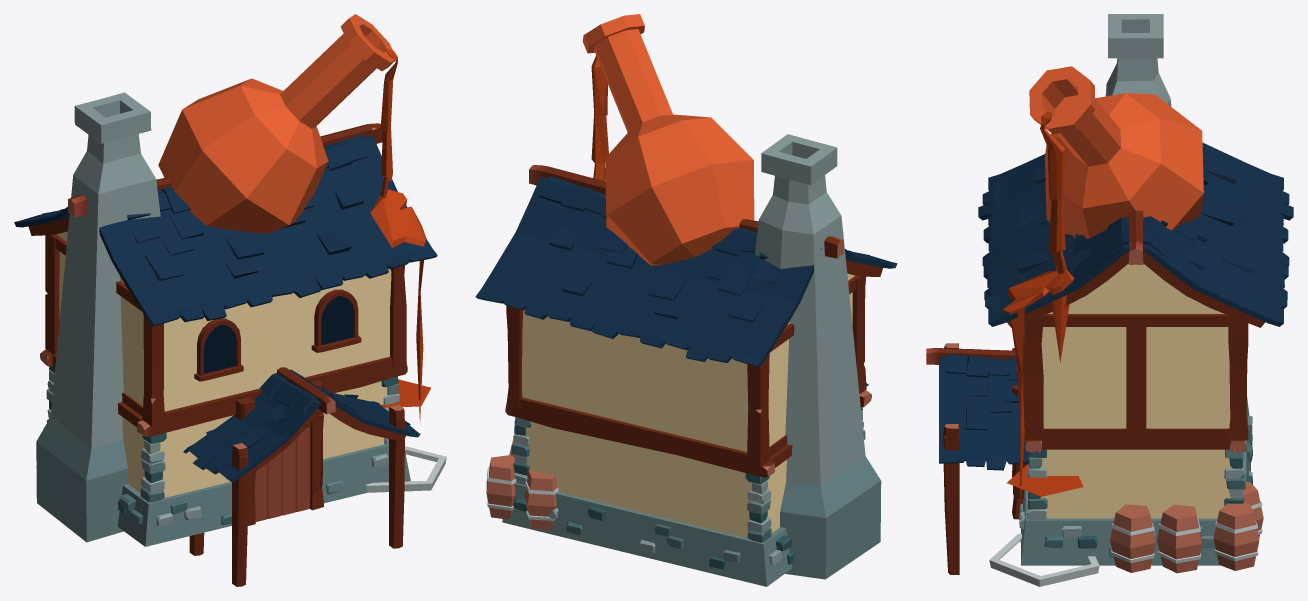
The model's file is SM_PotionStore_LODS_Group.fbx.
The picture shows the model from 3 angles, left to right: view 1: azimuth 30°, elevation 25°; view 2: azimuth 150°, elevation 25°; view 3: azimuth 270°, elevation 25°; orthographic projection. The views are drawn at different scales.
Parts seen in each view (by area): view 1: SM_PotionStore_LOD0; view 2: SM_PotionStore_LOD0; view 3: SM_PotionStore_LOD0.
Boxes of the visible parts, left/top/right/bottom form: SM_PotionStore_LOD0: left=14, top=14, right=446, bottom=586; SM_PotionStore_LOD0: left=475, top=14, right=897, bottom=586; SM_PotionStore_LOD0: left=926, top=14, right=1293, bottom=586.
Bounding box in the file's own units: 391 × 345 × 529.
